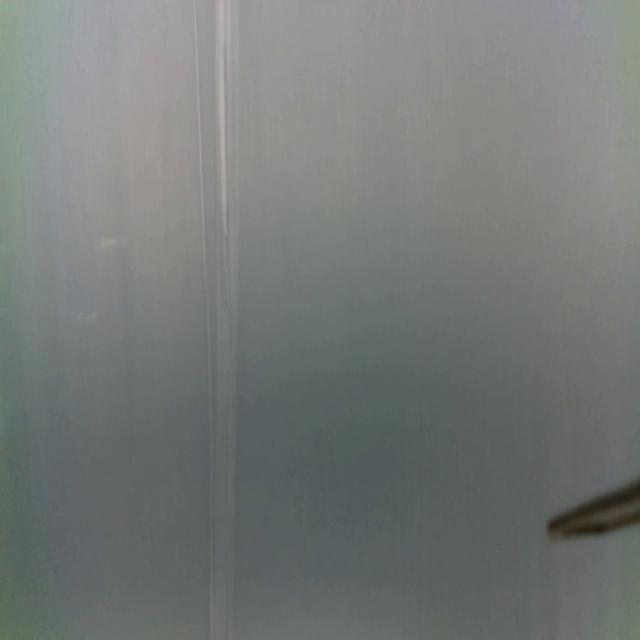crease: (192, 0, 240, 640)
